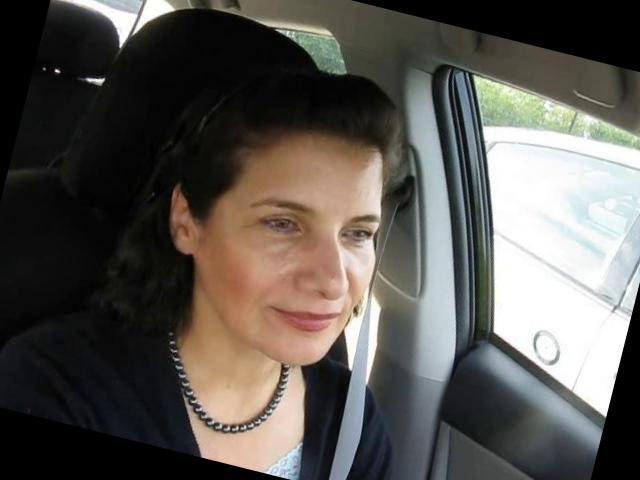eye_open: (252, 206, 306, 242), (340, 220, 376, 248)
face: (188, 162, 394, 382)
